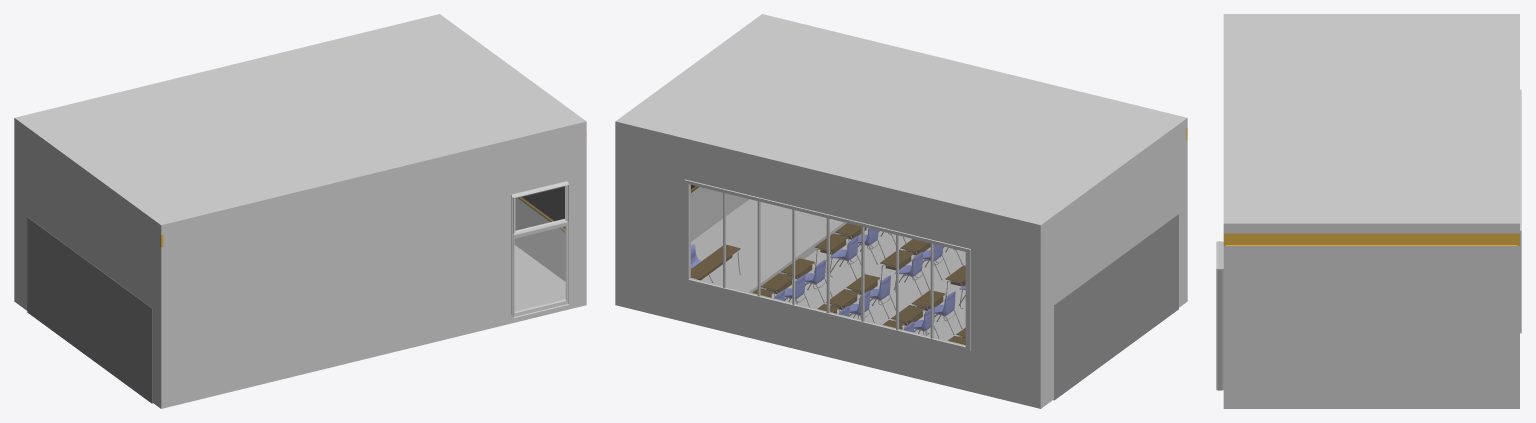
Rendered from School.fbx.
3 renders of one model, left to right at view 1: azimuth 30°, elevation 25°; view 2: azimuth 150°, elevation 25°; view 3: azimuth 270°, elevation 25°, orthographic.
Visible parts, largest first — view 1: school, LockersBase, door, BlackBoard; view 2: school, LockersBase, Tables, teachertable; view 3: school, Border, door.
Boxes of the visible parts, bbox=[...] form: school: bbox=[14, 14, 586, 408]; LockersBase: bbox=[27, 217, 152, 403]; door: bbox=[511, 181, 568, 317]; BlackBoard: bbox=[518, 186, 565, 232]; school: bbox=[615, 14, 1187, 408]; LockersBase: bbox=[1053, 214, 1178, 400]; Tables: bbox=[752, 223, 965, 344]; teachertable: bbox=[691, 244, 740, 280]; school: bbox=[1216, 14, 1521, 408]; Border: bbox=[1223, 233, 1519, 245]; door: bbox=[1218, 241, 1221, 390].
Bounding box in the file's own units: 1681 × 698 × 1035.
